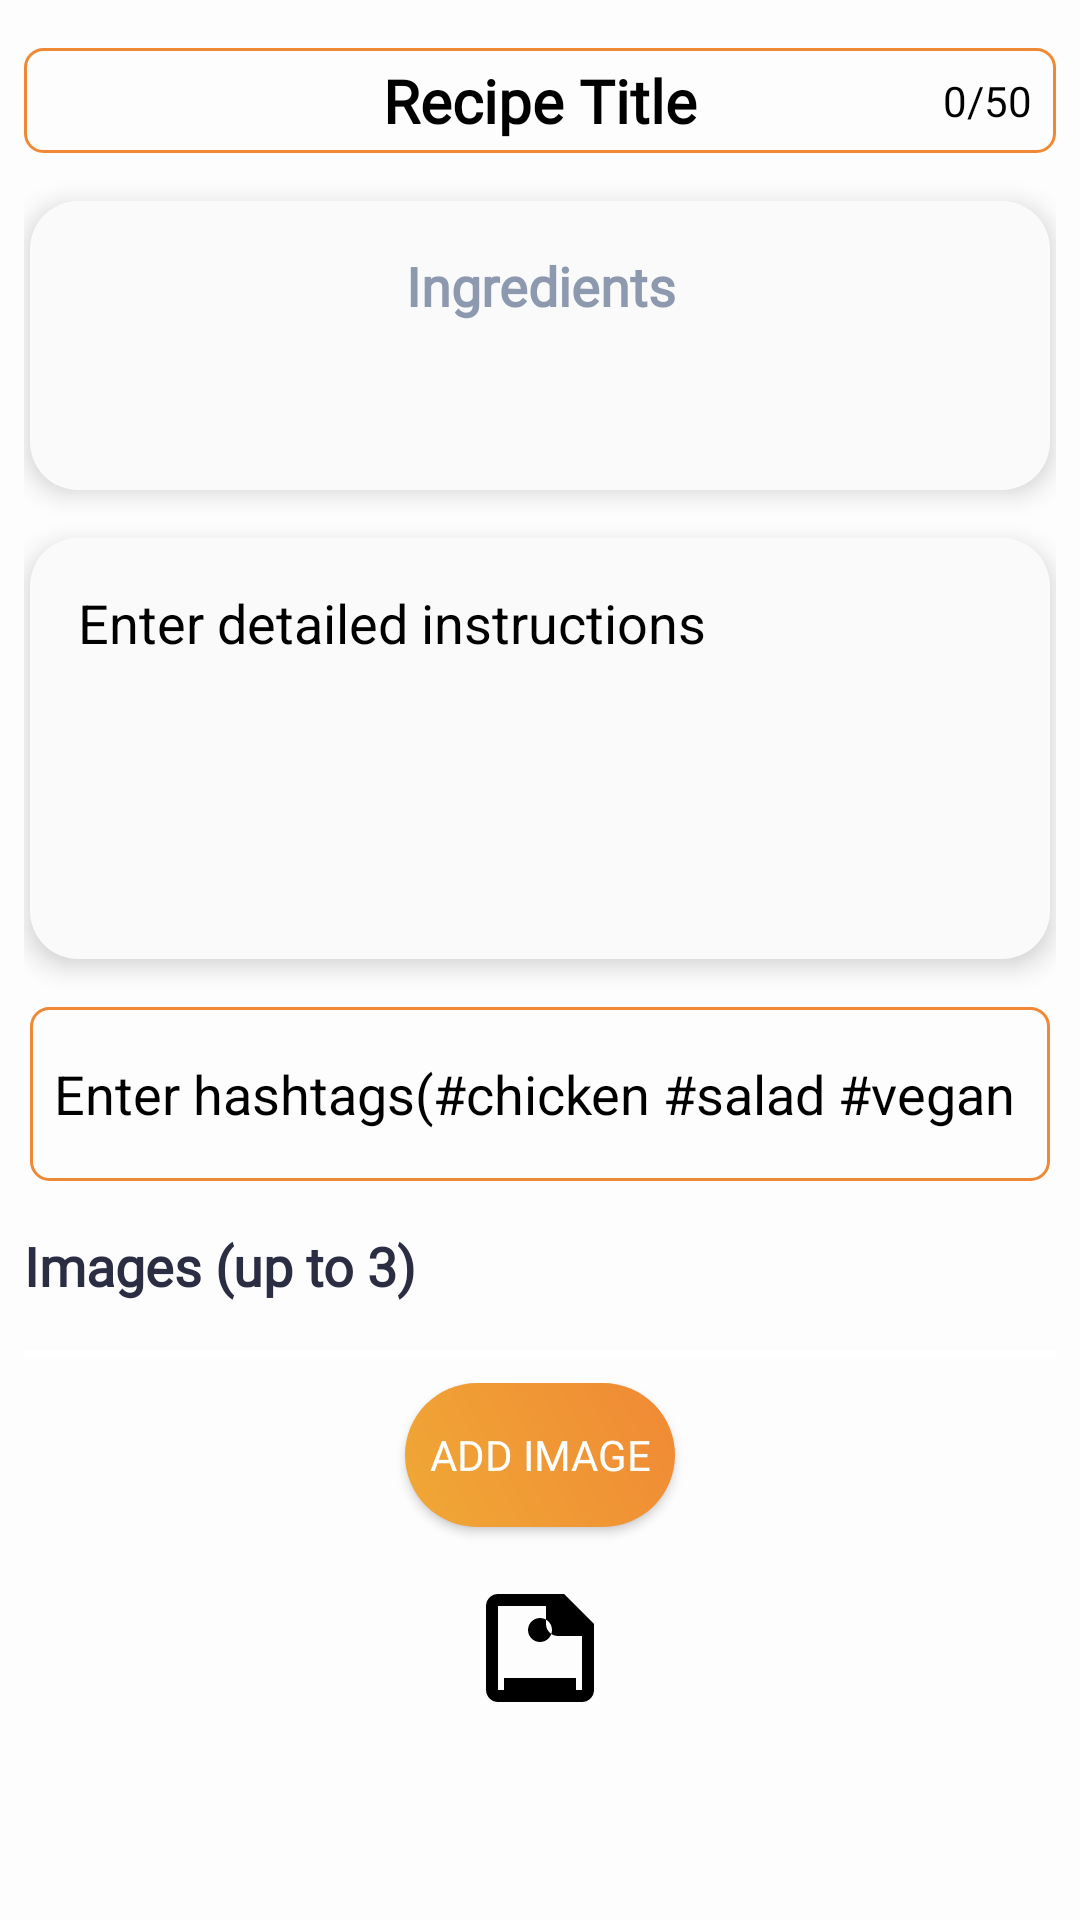

Screen size 1080px×1920px. Icon name, then its box in pixels as (x1, y1, x2, y2):
save: (486, 1594, 594, 1702)
